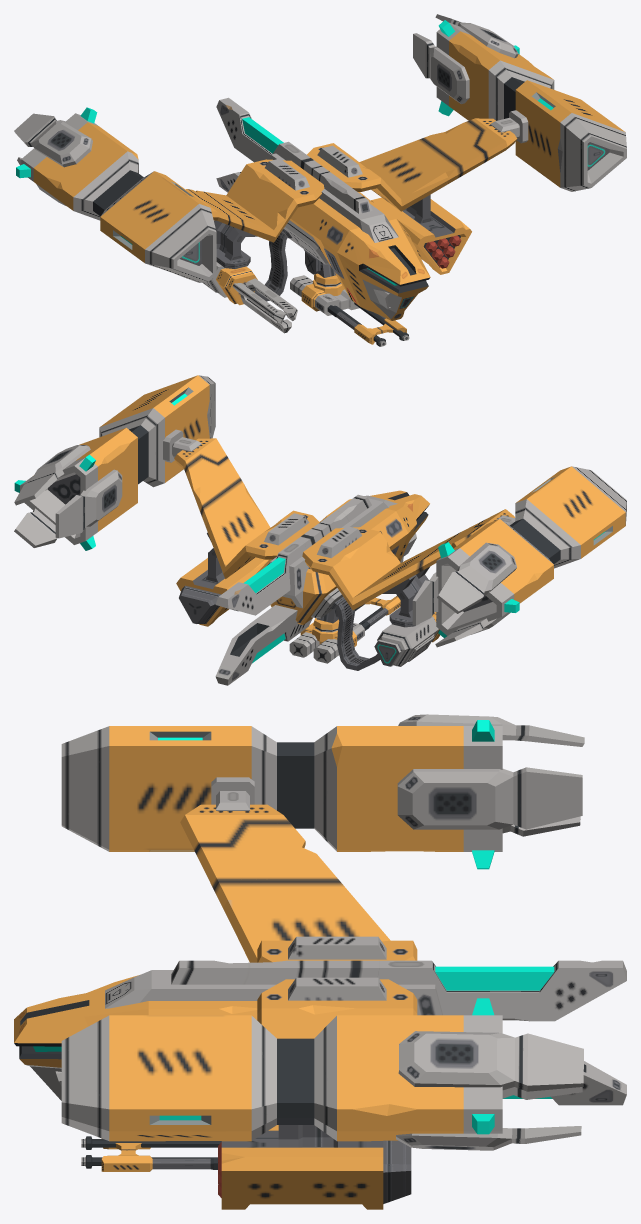
File: SM_Prop_Drone_03.fbx
3 views of the same model, one above another, from view 1: azimuth 30°, elevation 25°; view 2: azimuth 150°, elevation 25°; view 3: azimuth 270°, elevation 25° (orthographic). The views are drawn at different scales.
Parts seen in each view (by area): view 1: SM_Prop_Drone_03, SM_Prop_Drone_03_Turret_01; view 2: SM_Prop_Drone_03, SM_Prop_Drone_03_Turret_01; view 3: SM_Prop_Drone_03, SM_Prop_Drone_03_Turret_01.
Part boxes in pixels (left/top/right/bottom): SM_Prop_Drone_03: left=14, top=14, right=626, bottom=333; SM_Prop_Drone_03_Turret_01: left=290, top=273, right=409, bottom=346; SM_Prop_Drone_03: left=14, top=375, right=626, bottom=685; SM_Prop_Drone_03_Turret_01: left=289, top=596, right=400, bottom=663; SM_Prop_Drone_03: left=14, top=714, right=626, bottom=1209; SM_Prop_Drone_03_Turret_01: left=81, top=1136, right=221, bottom=1171.
Size of the model in its own units: 421 by 156 by 281.
